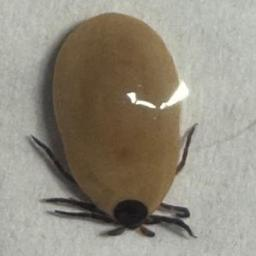Ixodes scapularis: (29, 11, 197, 238)
